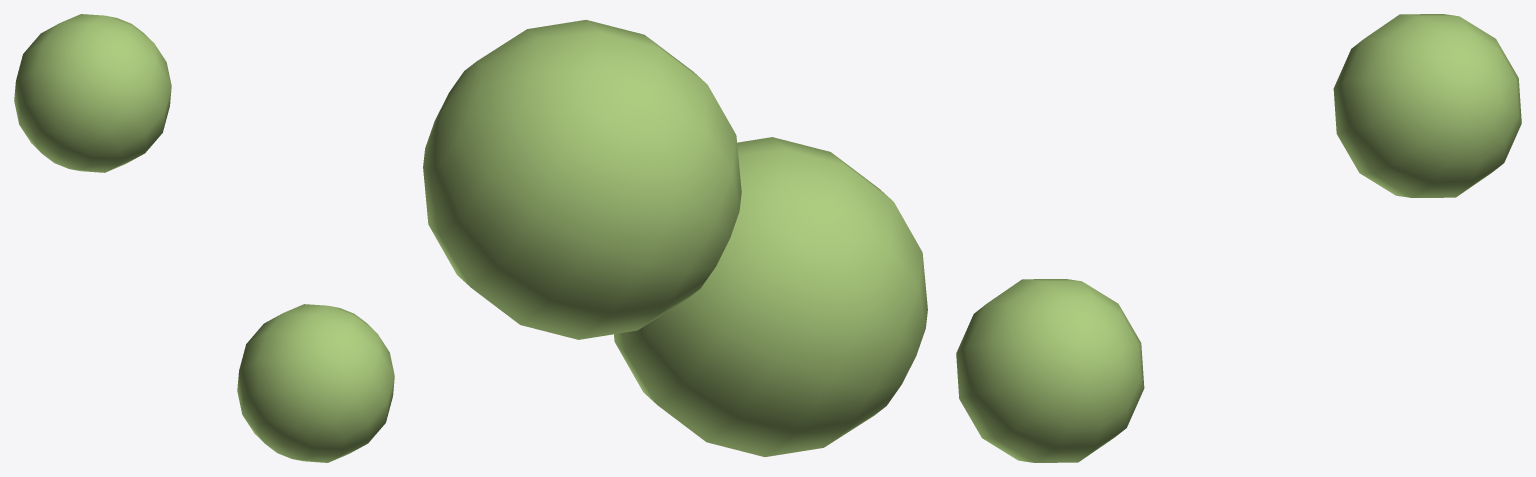
The model's file is infra-auricular-nodes-r.glb.
3 renders of one model, left to right at view 1: azimuth 30°, elevation 25°; view 2: azimuth 150°, elevation 25°; view 3: azimuth 270°, elevation 25°, orthographic. The views are drawn at different scales.
Parts seen in each view (by area): view 1: Infra-auricular nodes.r; view 2: Infra-auricular nodes.r; view 3: Infra-auricular nodes.r.
Part boxes in pixels (x1,y1,x2,y2): Infra-auricular nodes.r: (14,14,394,462); Infra-auricular nodes.r: (423,20,927,456); Infra-auricular nodes.r: (956,14,1521,462).
Bounding box in the file's own units: 0.00381 × 0.00598 × 0.00767.
